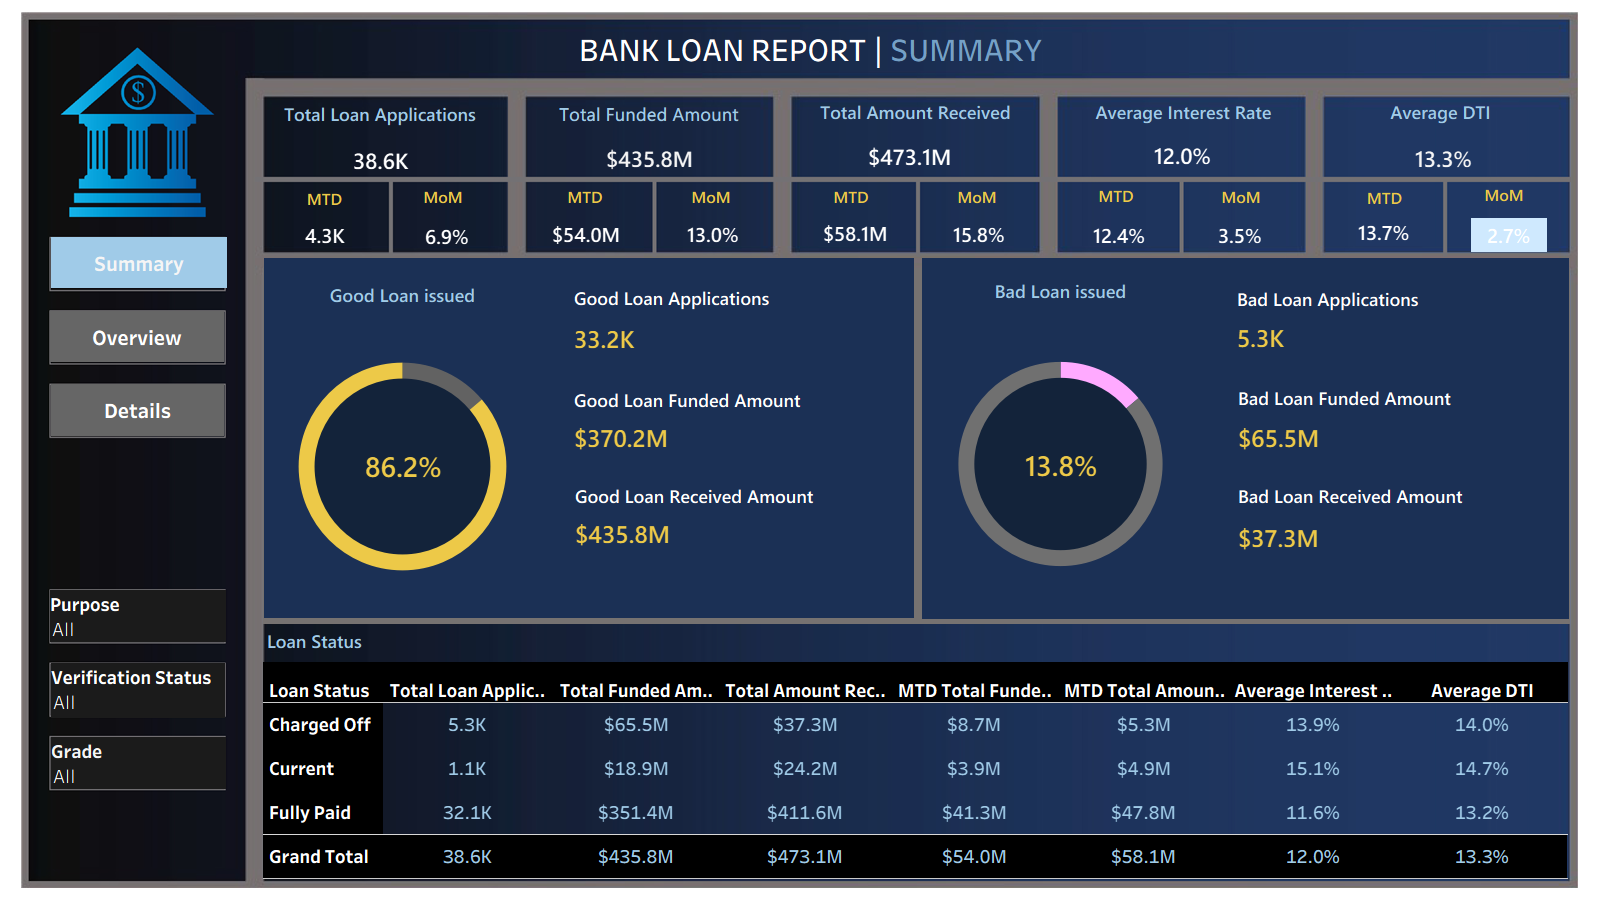

The page's visual inventory and layout, read from the dashboard file:
{"tool":"tableau","page":{"name":"Summary Dashboard","canvas":[1600,900],"ordinal":2},"visuals":[{"type":"image","param":"C:/Users/JOY/Downloads/summary-01.jpg","box":[8,8,1584,884]},{"type":"text","box":[445,24,731,50]},{"type":"text","box":[555,96,188,35]},{"type":"text","box":[280,97,200,34]},{"type":"text","box":[816,97,199,30]},{"type":"text","box":[1091,97,185,30]},{"type":"text","box":[1386,97,109,30]},{"type":"worksheet","title":"Avg Interest Rate","mark":"Automatic","box":[1139,136,88,40]},{"type":"worksheet","title":"Total Amount Received","mark":"Automatic","box":[863,139,95,36]},{"type":"worksheet","title":"Total Funded Amount","mark":"Automatic","box":[600,142,101,34]},{"type":"worksheet","title":"Average DTI","mark":"Automatic","box":[1390,143,109,32]},{"type":"worksheet","title":"Total Loan Applications","mark":"Automatic","box":[338,144,87,33]},{"type":"text","box":[1449,180,110,30]},{"type":"text","box":[1066,181,100,30]},{"type":"text","box":[398,182,90,30]},{"type":"text","box":[535,182,100,30]},{"type":"text","box":[661,182,100,30]},{"type":"text","box":[801,182,100,30]},{"type":"text","box":[927,182,100,30]},{"type":"text","box":[1185,182,112,30]},{"type":"text","box":[1355,183,59,30]},{"type":"text","box":[283,184,83,29]},{"type":"worksheet","title":"MTD Total Amount Received","mark":"Automatic","box":[812,215,87,36]},{"type":"worksheet","title":"MTD Average DTI","mark":"Automatic","box":[1340,215,88,35]},{"type":"worksheet","title":"MTD Total Funded Amount","mark":"Automatic","box":[543,217,87,34]},{"type":"worksheet","title":"MoM Total Amount Received","mark":"Automatic","box":[938,217,82,35]},{"type":"worksheet","title":"MoM Total Funded Amount","mark":"Automatic","box":[672,218,82,33]},{"type":"worksheet","title":"MoM Average Interest Rate","mark":"Automatic","box":[1191,218,99,34]},{"type":"worksheet","title":"MoM Average DTI","mark":"Automatic","box":[1471,218,76,34]},{"type":"worksheet","title":"MTD Total Loan Applications","mark":"Automatic","box":[288,219,75,32]},{"type":"worksheet","title":"MoM Total Loan Applications","mark":"Automatic","box":[401,220,92,32]},{"type":"worksheet","title":"MTD Avg Interest Rate","mark":"Automatic","box":[1080,220,79,31]},{"type":"dashboard-object","box":[51,237,176,51]},{"type":"worksheet","title":"Good Loan Vs Bad Loan Copy","mark":"Pie","rows":["Calculation_0282077807128601","Calculation_0282077807128601"],"box":[921,273,279,343]},{"type":"worksheet","title":"Good VS Bad Loan","mark":"Pie","rows":["Calculation_0282077807128601","Calculation_0282077807128601"],"box":[263,277,279,340]},{"type":"worksheet","title":"Good Loan Applications","mark":"Automatic","box":[570,280,334,78]},{"type":"worksheet","title":"Bad Loan Applications","mark":"Automatic","box":[1233,281,312,74]},{"type":"dashboard-object","box":[50,311,174,51]},{"type":"worksheet","title":"Bad Loan Funded Amount","mark":"Automatic","box":[1234,380,308,76]},{"type":"worksheet","title":"Good Loan Funded Amount","mark":"Automatic","box":[570,382,337,73]},{"type":"dashboard-object","box":[51,384,173,52]},{"type":"worksheet","title":"% Bad Loan Applications ","mark":"Automatic","box":[996,412,131,106]},{"type":"worksheet","title":"% Good Loan Applications","mark":"Automatic","box":[333,419,141,94]},{"type":"worksheet","title":"Good Loan Total Received Amount","mark":"Automatic","box":[571,478,333,73]},{"type":"worksheet","title":"Bad Loan Total Received Amount ","mark":"Automatic","box":[1234,478,313,80]},{"type":"filter","title":"Good VS Bad Loan","param":"[federated.02bapp10spx5te19axciv0uohof1].[none:purpose:nk]","box":[50,590,176,52]},{"type":"worksheet","title":"Loan Staus App","mark":"Automatic","rows":["loan_status"],"box":[263,623,1305,256]},{"type":"filter","title":"Good VS Bad Loan","param":"[federated.02bapp10spx5te19axciv0uohof1].[none:verification_status:nk]","box":[51,663,174,140]},{"type":"filter","title":"Good VS Bad Loan","param":"[federated.02bapp10spx5te19axciv0uohof1].[none:grade:nk]","box":[51,737,175,52]}]}

Visuals, with their boxes in screenshot pixels (x1, y1, x2, y2), scaled from the page's 1600x900 canvas onto the 1600x900 screenshot:
image: left=8, top=8, right=1592, bottom=892
text: left=445, top=24, right=1176, bottom=74
text: left=555, top=96, right=743, bottom=131
text: left=280, top=97, right=480, bottom=131
text: left=816, top=97, right=1015, bottom=127
text: left=1091, top=97, right=1276, bottom=127
text: left=1386, top=97, right=1495, bottom=127
"Avg Interest Rate" worksheet: left=1139, top=136, right=1227, bottom=176
"Total Amount Received" worksheet: left=863, top=139, right=958, bottom=175
"Total Funded Amount" worksheet: left=600, top=142, right=701, bottom=176
"Average DTI" worksheet: left=1390, top=143, right=1499, bottom=175
"Total Loan Applications" worksheet: left=338, top=144, right=425, bottom=177
text: left=1449, top=180, right=1559, bottom=210
text: left=1066, top=181, right=1166, bottom=211
text: left=398, top=182, right=488, bottom=212
text: left=535, top=182, right=635, bottom=212
text: left=661, top=182, right=761, bottom=212
text: left=801, top=182, right=901, bottom=212
text: left=927, top=182, right=1027, bottom=212
text: left=1185, top=182, right=1297, bottom=212
text: left=1355, top=183, right=1414, bottom=213
text: left=283, top=184, right=366, bottom=213
"MTD Total Amount Received" worksheet: left=812, top=215, right=899, bottom=251
"MTD Average DTI" worksheet: left=1340, top=215, right=1428, bottom=250
"MTD Total Funded Amount" worksheet: left=543, top=217, right=630, bottom=251
"MoM Total Amount Received" worksheet: left=938, top=217, right=1020, bottom=252
"MoM Total Funded Amount" worksheet: left=672, top=218, right=754, bottom=251
"MoM Average Interest Rate" worksheet: left=1191, top=218, right=1290, bottom=252
"MoM Average DTI" worksheet: left=1471, top=218, right=1547, bottom=252
"MTD Total Loan Applications" worksheet: left=288, top=219, right=363, bottom=251
"MoM Total Loan Applications" worksheet: left=401, top=220, right=493, bottom=252
"MTD Avg Interest Rate" worksheet: left=1080, top=220, right=1159, bottom=251
dashboard-object: left=51, top=237, right=227, bottom=288
"Good Loan Vs Bad Loan Copy" worksheet (Pie marks): left=921, top=273, right=1200, bottom=616
"Good VS Bad Loan" worksheet (Pie marks): left=263, top=277, right=542, bottom=617
"Good Loan Applications" worksheet: left=570, top=280, right=904, bottom=358
"Bad Loan Applications" worksheet: left=1233, top=281, right=1545, bottom=355
dashboard-object: left=50, top=311, right=224, bottom=362
"Bad Loan Funded Amount" worksheet: left=1234, top=380, right=1542, bottom=456
"Good Loan Funded Amount" worksheet: left=570, top=382, right=907, bottom=455
dashboard-object: left=51, top=384, right=224, bottom=436
"% Bad Loan Applications " worksheet: left=996, top=412, right=1127, bottom=518
"% Good Loan Applications" worksheet: left=333, top=419, right=474, bottom=513
"Good Loan Total Received Amount" worksheet: left=571, top=478, right=904, bottom=551
"Bad Loan Total Received Amount " worksheet: left=1234, top=478, right=1547, bottom=558
"Good VS Bad Loan" filter: left=50, top=590, right=226, bottom=642
"Loan Staus App" worksheet: left=263, top=623, right=1568, bottom=879
"Good VS Bad Loan" filter: left=51, top=663, right=225, bottom=803
"Good VS Bad Loan" filter: left=51, top=737, right=226, bottom=789
